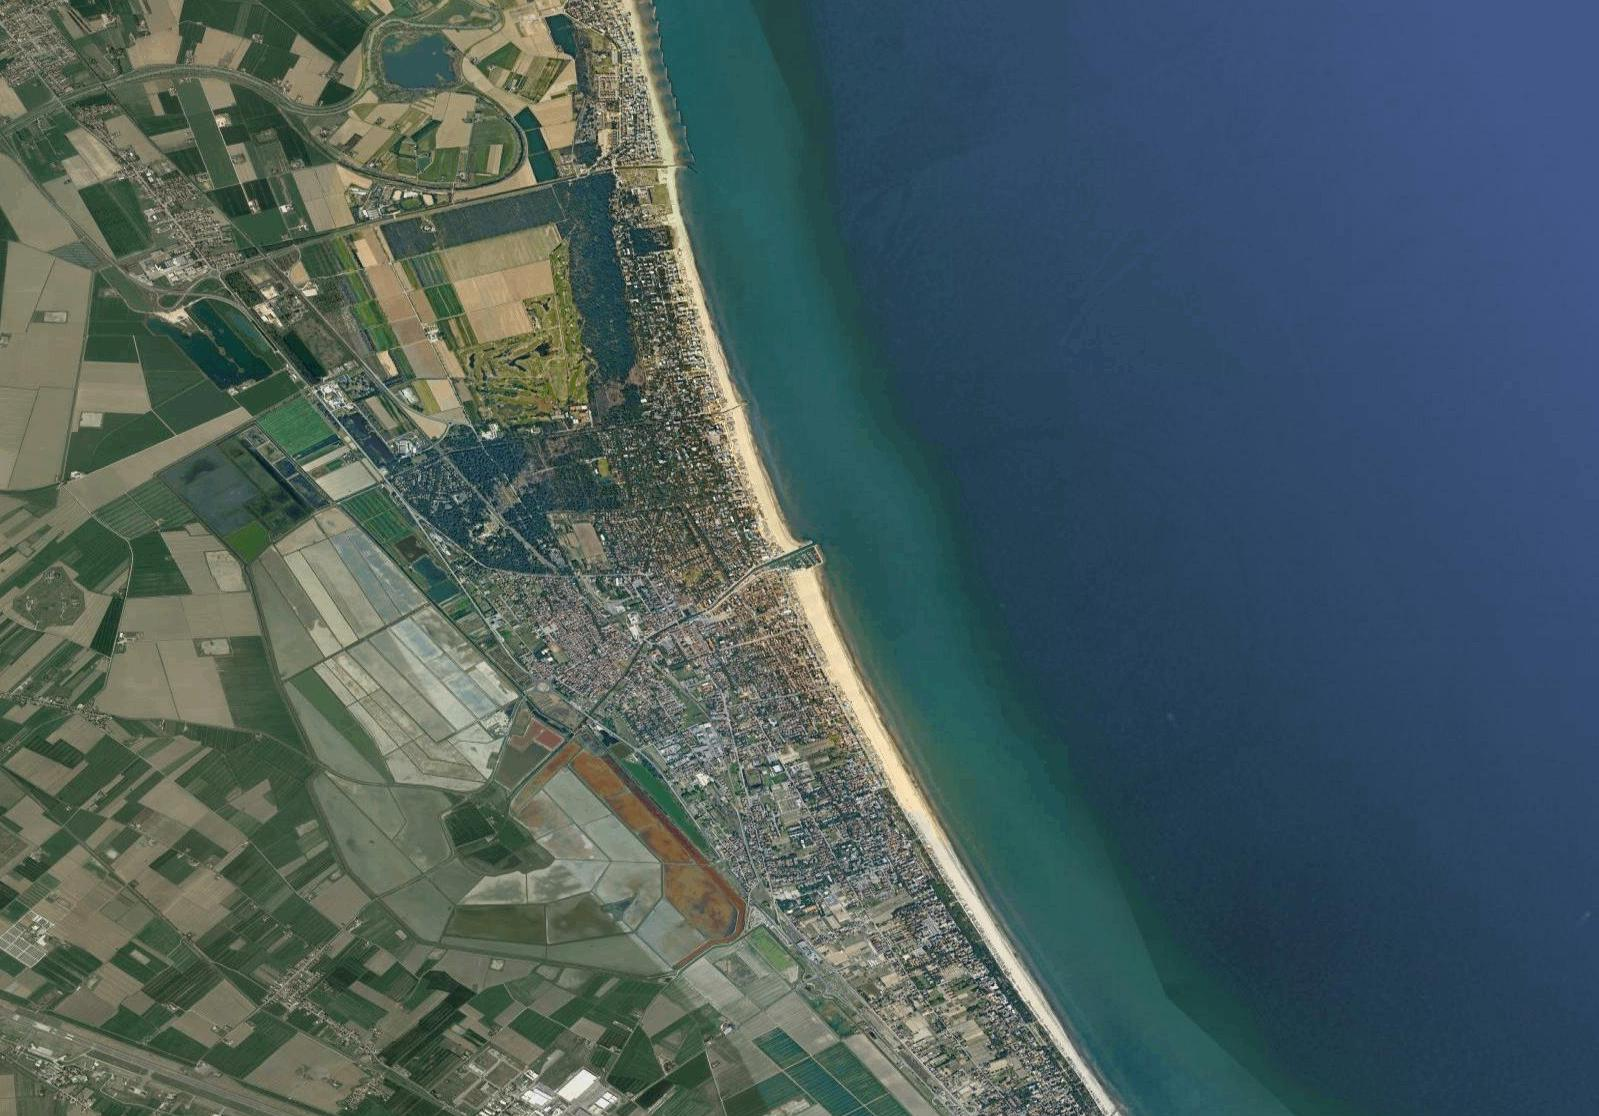harbor: (776, 539, 826, 573)
